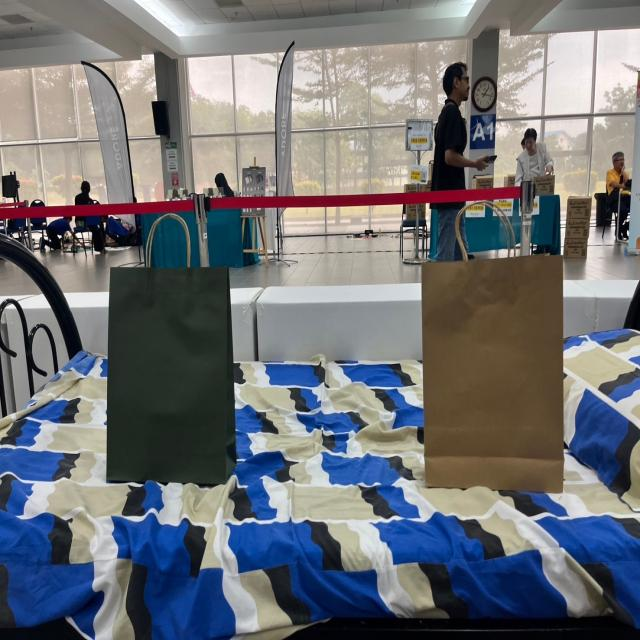bag: (422, 208, 561, 486), (116, 203, 229, 480)
